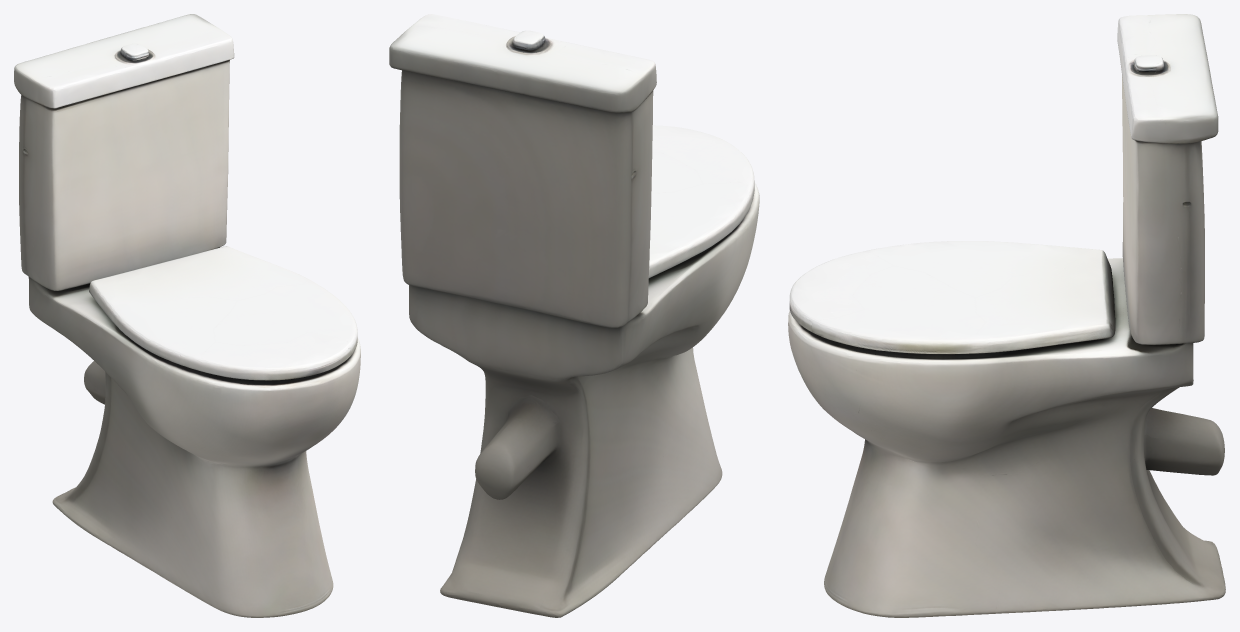
The model's file is toilet.glb.
3 views of the same model, side by side, from view 1: azimuth 30°, elevation 25°; view 2: azimuth 150°, elevation 25°; view 3: azimuth 270°, elevation 25° (orthographic). The views are drawn at different scales.
Visible parts, largest first — view 1: model; view 2: model; view 3: model.
Boxes of the visible parts, box(x1,y1,x2,y2) form: model: box(14, 14, 360, 617); model: box(389, 14, 759, 617); model: box(788, 14, 1225, 617).
Size of the model in its own units: 0.8959 by 1.9 by 1.46.
1 material, 1 textured.
